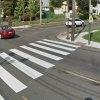Crosswalk: (2, 40, 76, 93)
